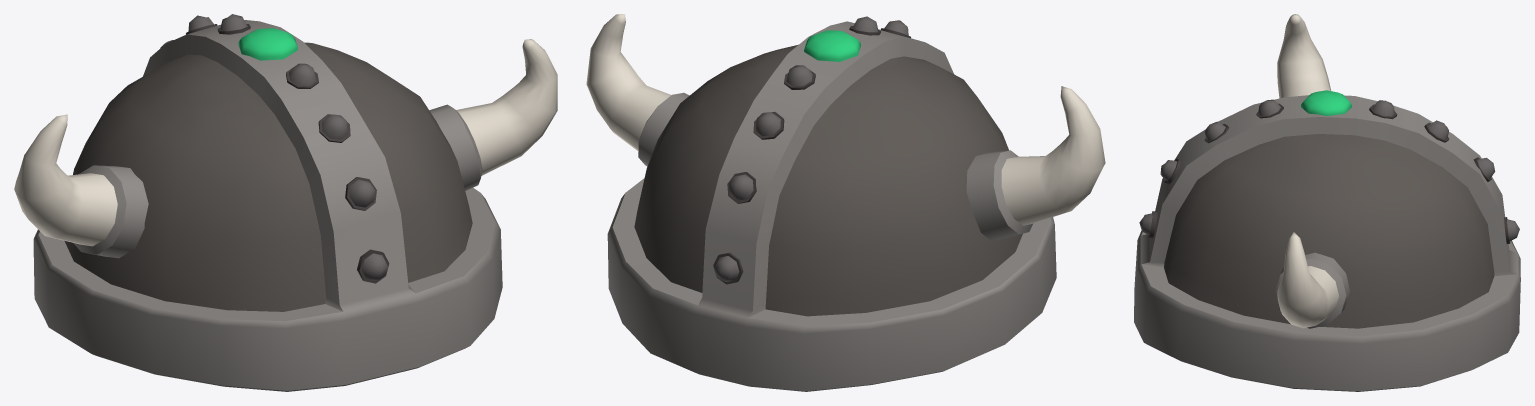
File: Hat_19_01.fbx
The picture shows the model from 3 angles, left to right: view 1: azimuth 30°, elevation 25°; view 2: azimuth 150°, elevation 25°; view 3: azimuth 270°, elevation 25°; orthographic projection. The views are drawn at different scales.
Parts seen in each view (by area): view 1: Hat_19_01; view 2: Hat_19_01; view 3: Hat_19_01.
Part boxes in pixels (x1,y1,x2,y2): Hat_19_01: (14, 14, 557, 391); Hat_19_01: (586, 14, 1105, 391); Hat_19_01: (1134, 14, 1520, 391).
Bounding box in the file's own units: 55.57 × 27.61 × 41.99.
